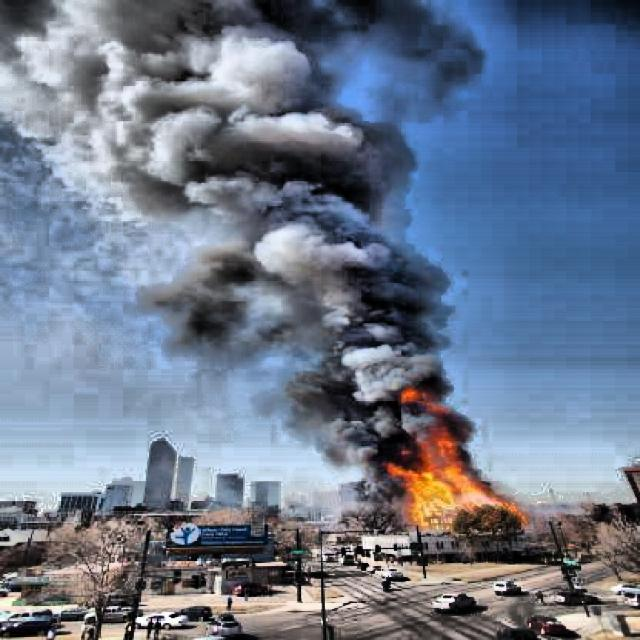Fire: (388, 389, 524, 534)
